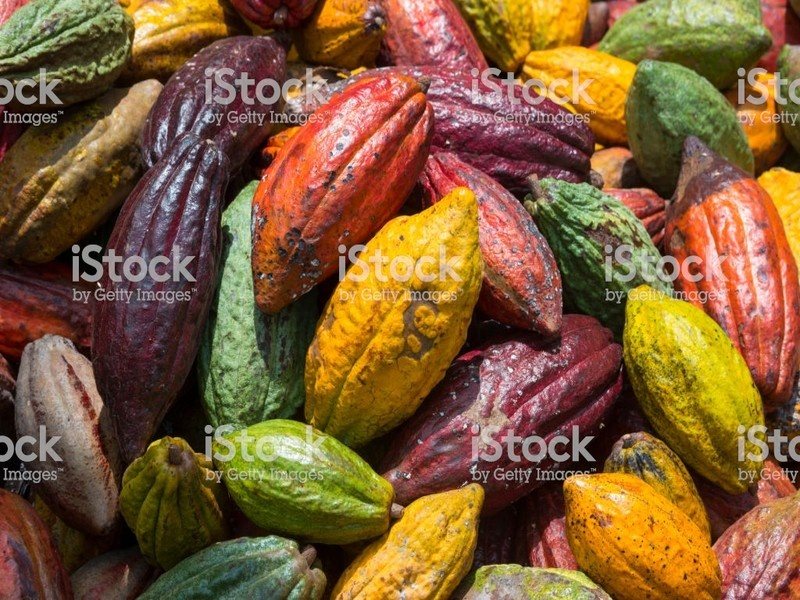Cacaopod: (305, 205, 488, 458), (251, 75, 428, 311), (615, 278, 781, 488), (655, 175, 800, 396), (208, 421, 401, 545)
